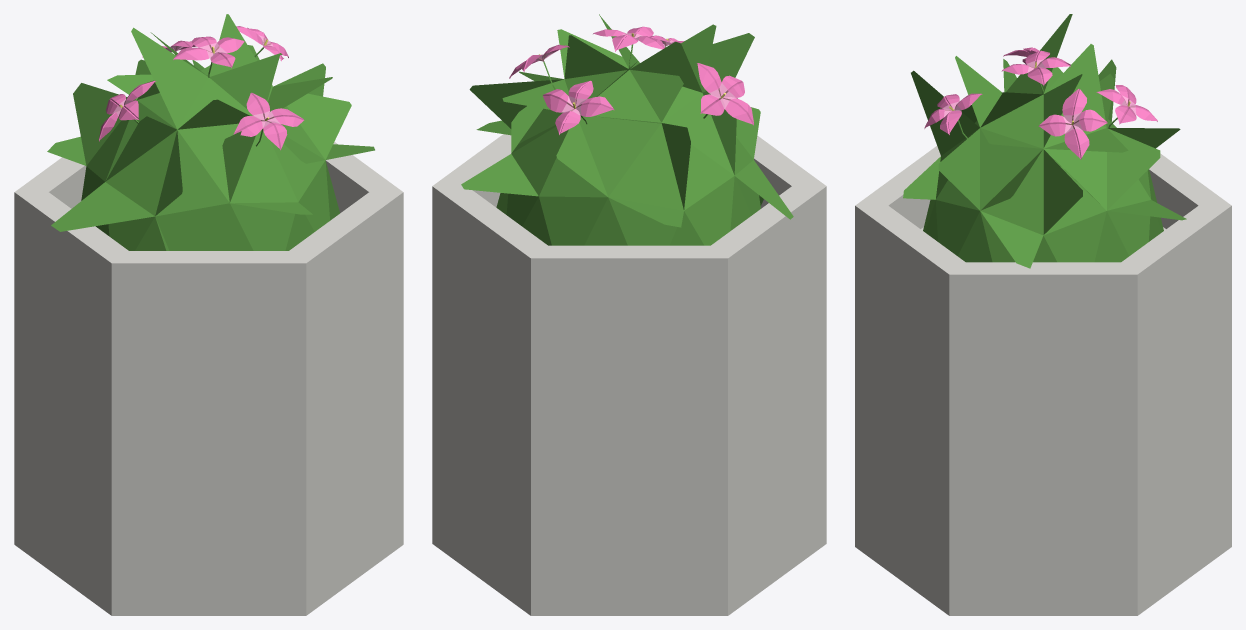
Rendered from plants-type-002.obj.
3 renders of one model, left to right at view 1: azimuth 30°, elevation 25°; view 2: azimuth 150°, elevation 25°; view 3: azimuth 270°, elevation 25°, orthographic. The views are drawn at different scales.
Parts seen in each view (by area): view 1: plants-type-002; view 2: plants-type-002; view 3: plants-type-002.
Boxes of the visible parts, bbox=[...] form: plants-type-002: bbox=[14, 14, 403, 615]; plants-type-002: bbox=[432, 14, 826, 615]; plants-type-002: bbox=[855, 14, 1231, 615].
Size of the model in its own units: 0.3878 by 0.6102 by 0.413.
